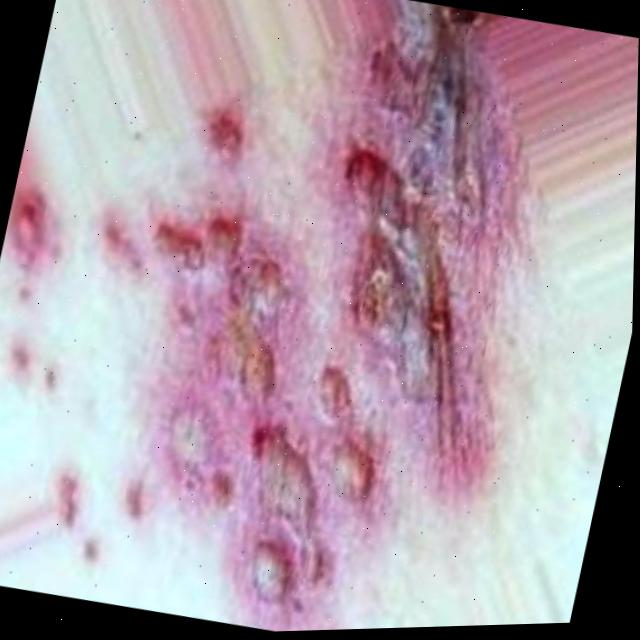Shingles: (110, 12, 498, 610)
